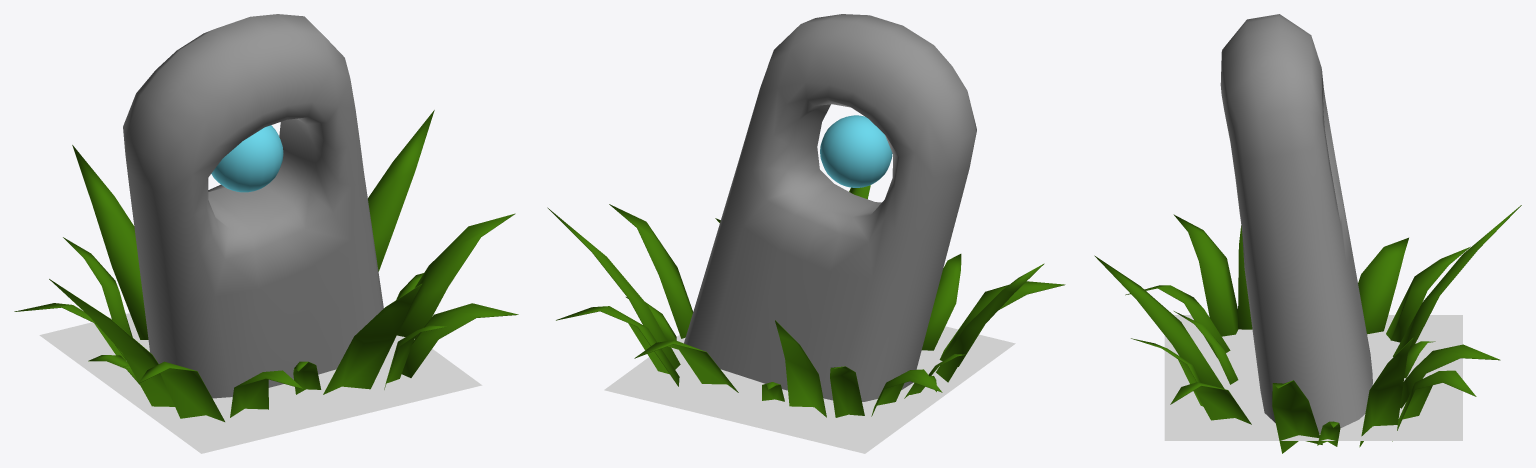
File: StoneRune.fbx
3 renders of one model, left to right at view 1: azimuth 30°, elevation 25°; view 2: azimuth 150°, elevation 25°; view 3: azimuth 270°, elevation 25°, orthographic. The views are drawn at different scales.
Parts seen in each view (by area): view 1: Cylinder, Plane.018, Plane.003, Plane.009, Plane.012, Plane, Sphere, Plane.006, Plane.007, Plane.011, Plane.008, Plane.004 (+3 smaller); view 2: Cylinder, Plane.018, Sphere, Plane.012, Plane.003, Plane.006, Plane.008, Plane, Plane.002, Plane.004, Plane.001, Plane.007 (+1 smaller); view 3: Cylinder, Plane.018, Plane.007, Plane.005, Plane.009, Plane, Plane.012, Plane.004, Plane.003, Plane.011, Plane.002, Plane.001 (+4 smaller).
Part boxes in pixels (left/top/right/bottom): Cylinder: left=123, top=14, right=383, bottom=398; Plane.018: left=39, top=313, right=482, bottom=453; Plane.003: left=72, top=145, right=148, bottom=339; Plane.009: left=323, top=284, right=421, bottom=394; Plane.012: left=397, top=213, right=515, bottom=338; Plane: left=368, top=110, right=434, bottom=271; Sphere: left=211, top=125, right=283, bottom=192; Plane.006: left=49, top=279, right=174, bottom=406; Plane.007: left=138, top=361, right=224, bottom=421; Plane.011: left=401, top=303, right=518, bottom=377; Plane.008: left=230, top=370, right=303, bottom=417; Plane.004: left=63, top=237, right=132, bottom=337; Cylinder: left=684, top=14, right=976, bottom=401; Plane.018: left=604, top=326, right=1015, bottom=453; Sphere: left=820, top=115, right=892, bottom=187; Plane.012: left=609, top=204, right=692, bottom=338; Plane.003: left=775, top=320, right=826, bottom=417; Plane.006: left=936, top=263, right=1044, bottom=382; Plane.008: left=922, top=254, right=961, bottom=350; Plane: left=547, top=207, right=680, bottom=369; Plane.002: left=634, top=340, right=738, bottom=392; Plane.004: left=830, top=366, right=864, bottom=417; Plane.001: left=556, top=306, right=679, bottom=386; Plane.007: left=939, top=281, right=1065, bottom=366; Cylinder: left=1220, top=14, right=1372, bottom=433; Plane.018: left=1164, top=315, right=1462, bottom=440; Plane.007: left=1173, top=214, right=1238, bottom=336; Plane.005: left=1358, top=237, right=1408, bottom=334; Plane.009: left=1094, top=255, right=1224, bottom=388; Plane: left=1359, top=338, right=1413, bottom=447; Plane.012: left=1272, top=380, right=1322, bottom=453; Plane.004: left=1386, top=246, right=1470, bottom=342; Plane.003: left=1393, top=205, right=1521, bottom=356; Plane.011: left=1170, top=382, right=1251, bottom=424; Plane.002: left=1400, top=344, right=1500, bottom=408; Plane.001: left=1392, top=370, right=1476, bottom=441.
Size of the model in its own units: 548 by 435 by 472.
